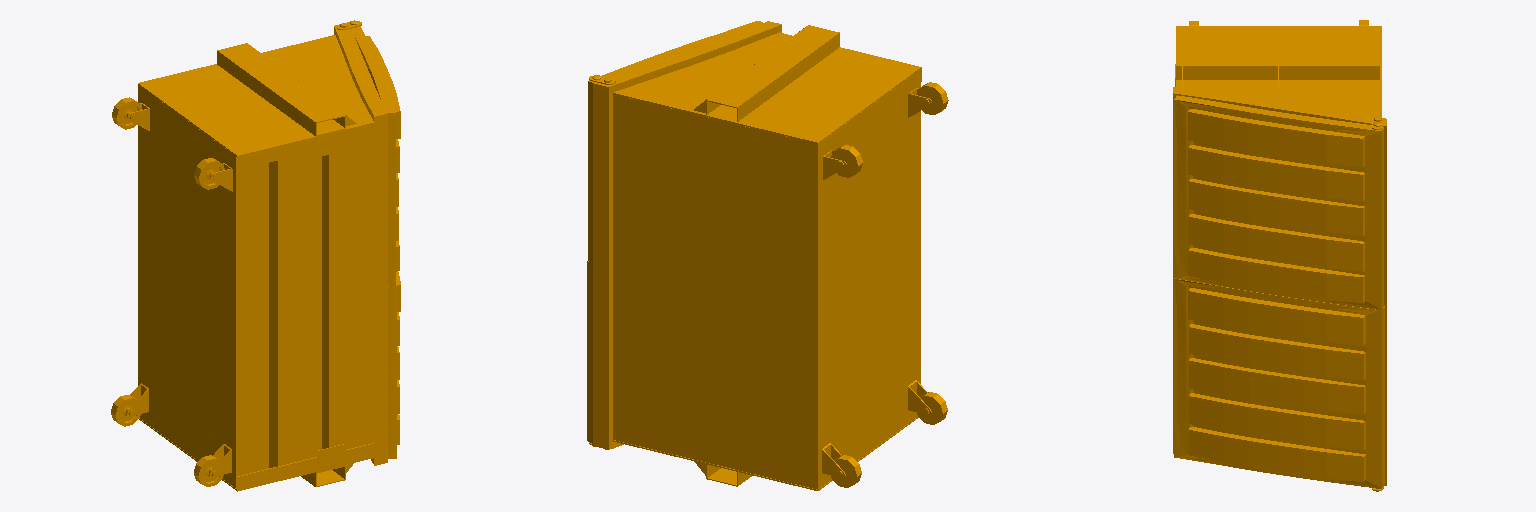
The robot description file, URDF, robot "none":
<robot name="none">
       <link name="none">
           <visual>
               <origin rpy=" 0 0 -1.57" xyz="0 0 0" />
               <geometry>
                   <mesh filename="uploads_files_3104188_DumpsterColor.obj" scale="0.05 0.05 0.05" />
               </geometry>
           </visual>
          <collision>
<origin rpy="1.57 0 0" xyz="0 0 0.75" />
              <geometry>
                  <box size="1.7 1.500000 0.615937" />
              </geometry>
          </collision>

          <inertial>
            <mass value=".0" />
            <inertia ixx="0.05" ixy="0.0" ixz="0.0" iyy="0.05" iyz="0.0" izz="0.05"/>
          </inertial>
      </link>
  </robot>

--- Render facts (derived) ---
The picture shows the robot from 3 angles, left to right: view 1: azimuth 30°, elevation 25°; view 2: azimuth 150°, elevation 25°; view 3: azimuth 270°, elevation 25°; orthographic projection.
Model none with 1 links and 0 joints (none), rooted at none, posed all joints at 0.
Visible links, largest first — view 1: none; view 2: none; view 3: none.
Boxes of the visible links, <box> form: none: <box>111,20,400,491</box>; none: <box>587,21,948,490</box>; none: <box>1173,20,1386,491</box>.
Bounding box of the posed robot: 1.11 × 0.778 × 1.51 m (x, y, z).
Meshes: 1 distinct files referenced, 1 mesh visuals loaded (1 OBJ).